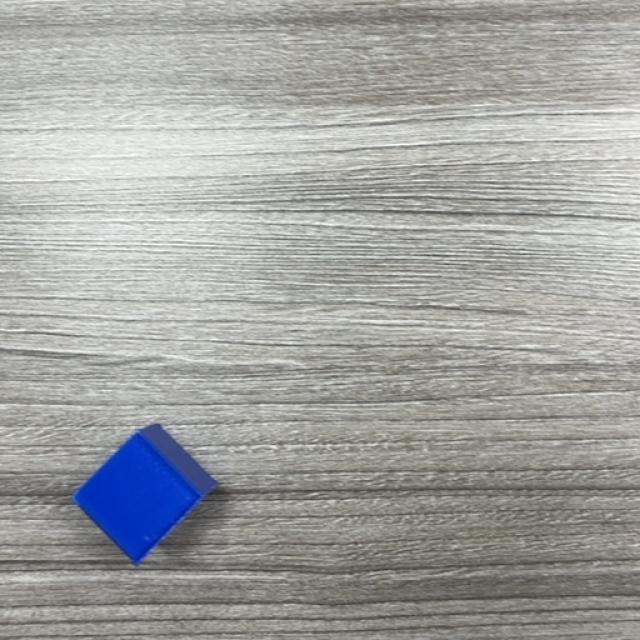Azul: (71, 424, 219, 568)
